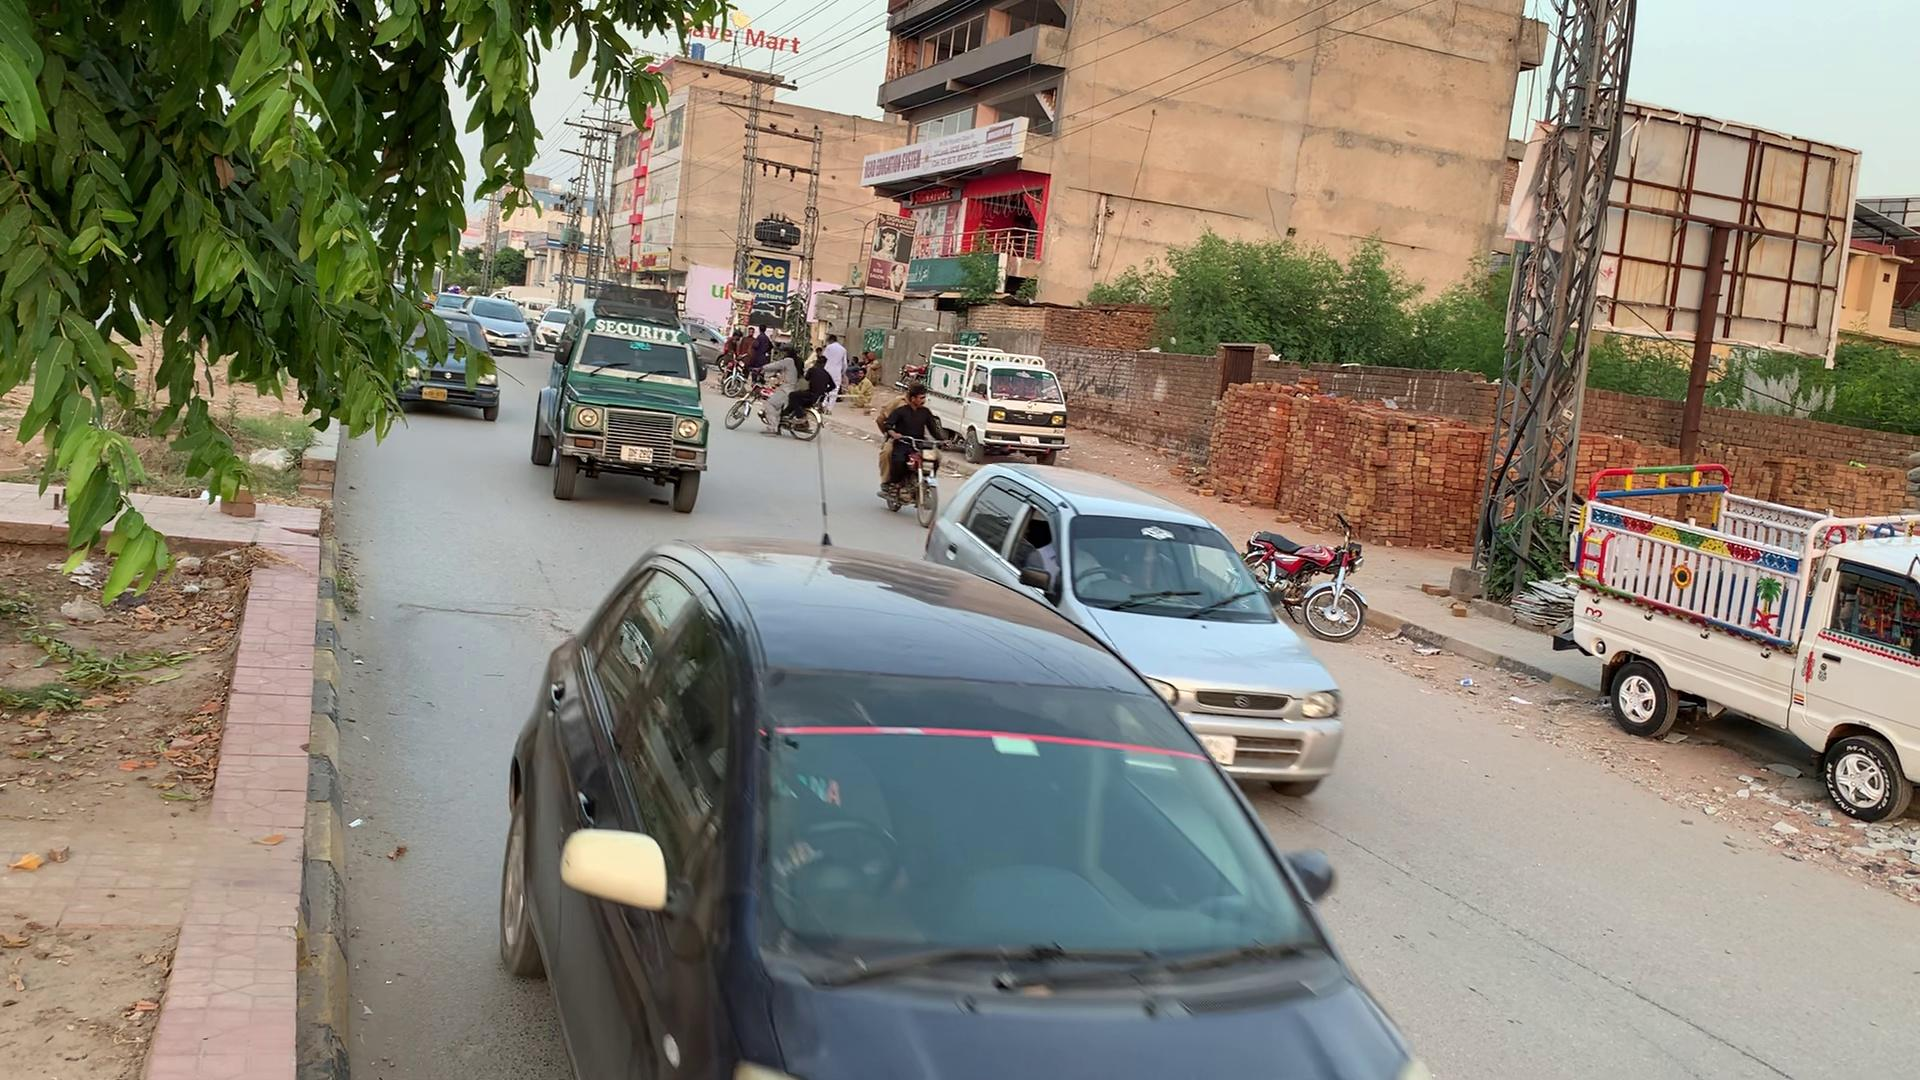windshield: (748, 674, 1348, 1000), (1064, 500, 1300, 624)
